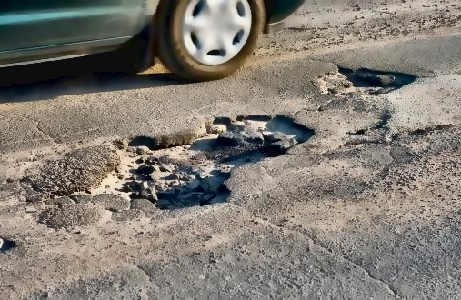pothole: (91, 109, 318, 210), (316, 63, 420, 95)
